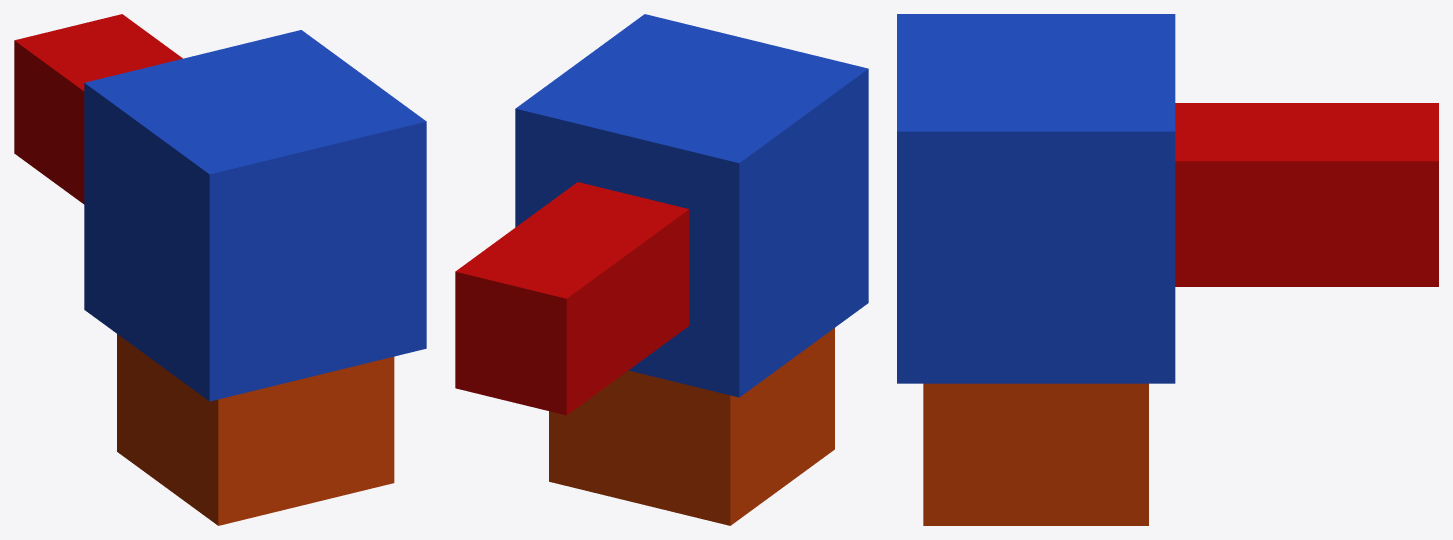
Rendered from Big_Turret.obj.
The picture shows the model from 3 angles, left to right: view 1: azimuth 30°, elevation 25°; view 2: azimuth 150°, elevation 25°; view 3: azimuth 270°, elevation 25°; orthographic projection. The views are drawn at different scales.
Parts seen in each view (by area): view 1: Cube.002, Cube.001, Cube.003; view 2: Cube.002, Cube.003, Cube.001; view 3: Cube.002, Cube.003, Cube.001.
Boxes of the visible parts, x1,y1,x2,y2 form: Cube.002: (84,30,426,401); Cube.001: (117,334,394,525); Cube.003: (14,14,182,204); Cube.002: (515,14,868,397); Cube.003: (455,182,689,415); Cube.001: (549,328,834,525); Cube.002: (897,14,1175,383); Cube.003: (1175,103,1438,286); Cube.001: (923,383,1148,525).
Size of the model in its own units: 0.8015 by 1.29 by 1.56.
